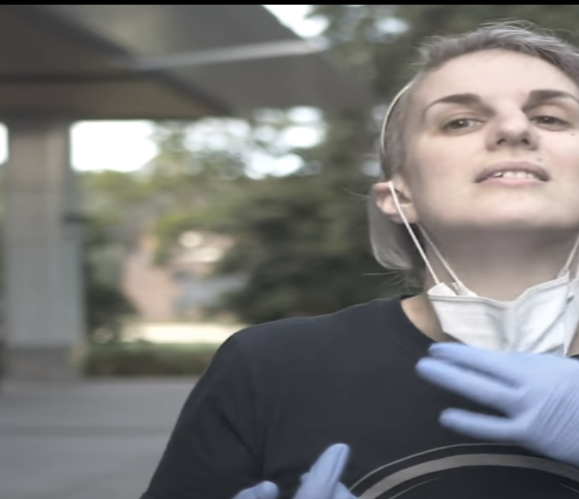mask_weared_incorrect: (373, 19, 578, 348)
